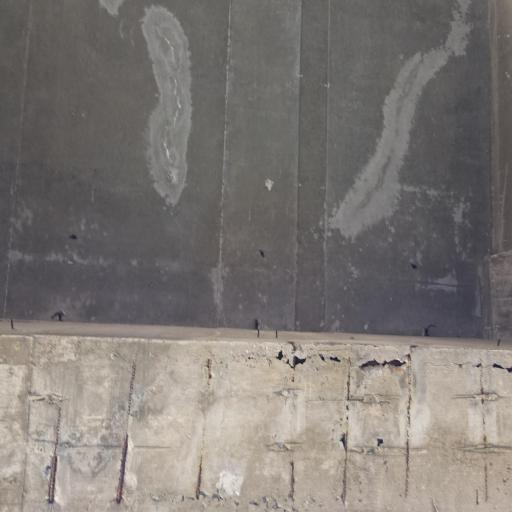exposed_rebar: (116, 359, 136, 505), (196, 360, 211, 500), (48, 409, 61, 503), (404, 354, 411, 498), (479, 361, 489, 452), (342, 416, 348, 505), (289, 460, 295, 500), (347, 357, 351, 402), (484, 459, 488, 500)
